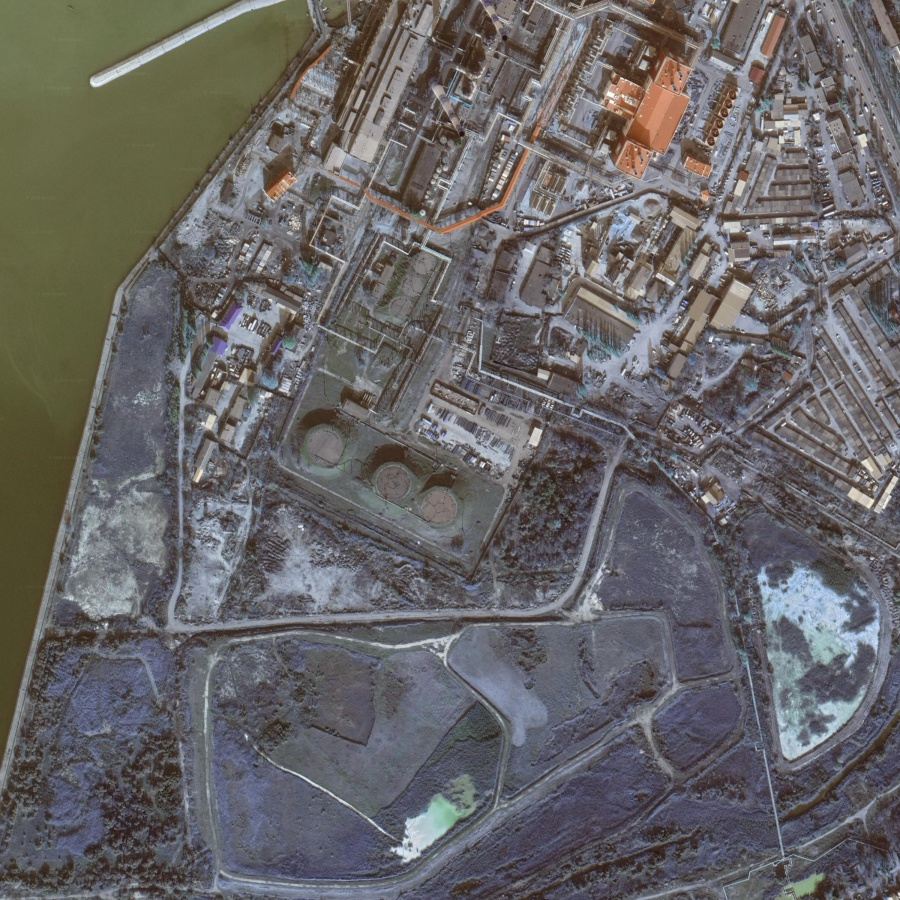PowerPlant: (288, 244, 474, 538)
